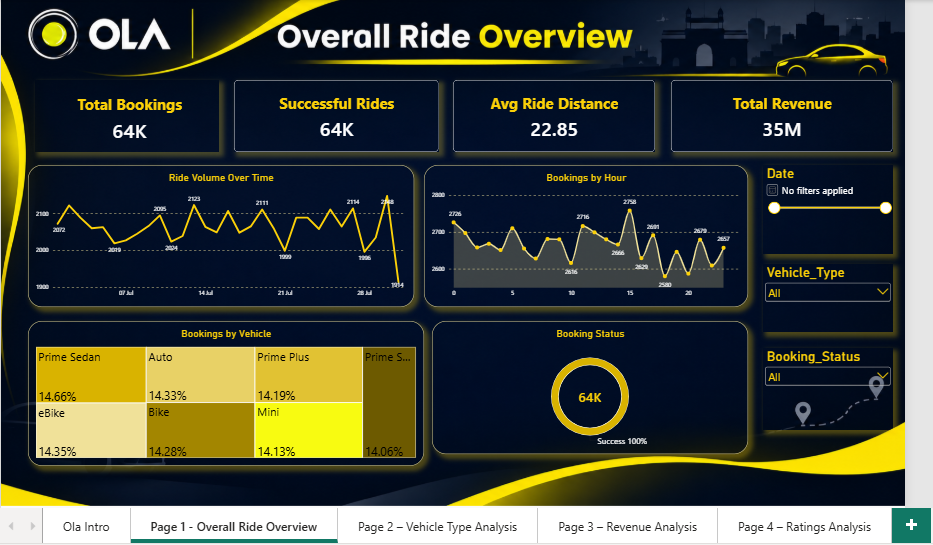

What the dashboard file says about the page in this screenshot:
{"tool":"powerbi","page":{"name":"Page 1 - Overall Ride Overview","canvas":[1920,1080],"ordinal":1},"visuals":[{"type":"cardVisual","fields":{"Data":["ola_cleaned.Total Bookings"]},"box":[72.3,170.1,391.2,153.1],"z":0},{"type":"cardVisual","fields":{"Data":["ola_cleaned.Avg Ride Distance"]},"box":[960.9,170.1,429.4,153.1],"z":1000},{"type":"cardVisual","fields":{"Data":["ola_cleaned.Successful Rides"]},"box":[495.4,170.1,435.8,153.1],"z":2000},{"type":"cardVisual","fields":{"Data":["ola_cleaned.Total Revenue"]},"box":[1424.4,170.1,472,153.1],"z":3000},{"type":"lineChart","title":"Ride Volume Over Time","fields":{"Category":["ola_cleaned.Date.Variation.Date Hierarchy.Year","ola_cleaned.Date.Variation.Date Hierarchy.Quarter","ola_cleaned.Date.Variation.Date Hierarchy.Month","ola_cleaned.Date.Variation.Date Hierarchy.Day"],"Y":["ola_cleaned.Total Bookings"]},"box":[57.4,350.8,820.6,301.9],"z":4000},{"type":"donutChart","title":"Booking Status","fields":{"Category":["ola_cleaned.Booking_Status"],"Y":["ola_cleaned.Total Bookings"]},"box":[916.3,682.4,671.8,282.8],"z":5000},{"type":"areaChart","title":"Bookings by Hour","fields":{"Category":["ola_cleaned.Hour"],"Y":["ola_cleaned.Total Bookings"]},"box":[899.3,350.8,688.8,301.9],"z":6000},{"type":"treemap","title":"Bookings by Vehicle","fields":{"Group":["ola_cleaned.Vehicle_Type"],"Values":["Divide(ola_cleaned.Total Bookings, ScopedEval(ola_cleaned.Total Bookings, []))"]},"box":[57.4,682.4,841.9,308.3],"z":7000},{"type":"slicer","fields":{"Values":["ola_cleaned.Date"]},"box":[1620,350.8,276.4,189.2],"z":8000},{"type":"slicer","fields":{"Values":["ola_cleaned.Vehicle_Type"]},"box":[1620,561.3,276.4,144.6],"z":9000},{"type":"slicer","fields":{"Values":["ola_cleaned.Booking_Status"]},"box":[1620,739.8,276.4,174.3],"z":10000}]}

Visuals, with their boxes on the page's 1920x1080 design canvas (x1, y1, x2, y2). These are canvas units, not pixel positions in the 933x545 screenshot, which may show the page scaled, cropped or inside an application window:
cardVisual - ola_cleaned.Total Bookings: [x1=72, y1=170, x2=464, y2=323]
cardVisual - ola_cleaned.Avg Ride Distance: [x1=961, y1=170, x2=1390, y2=323]
cardVisual - ola_cleaned.Successful Rides: [x1=495, y1=170, x2=931, y2=323]
cardVisual - ola_cleaned.Total Revenue: [x1=1424, y1=170, x2=1896, y2=323]
"Ride Volume Over Time" lineChart: [x1=57, y1=351, x2=878, y2=653]
"Booking Status" donutChart: [x1=916, y1=682, x2=1588, y2=965]
"Bookings by Hour" areaChart: [x1=899, y1=351, x2=1588, y2=653]
"Bookings by Vehicle" treemap: [x1=57, y1=682, x2=899, y2=991]
slicer - ola_cleaned.Date: [x1=1620, y1=351, x2=1896, y2=540]
slicer - ola_cleaned.Vehicle_Type: [x1=1620, y1=561, x2=1896, y2=706]
slicer - ola_cleaned.Booking_Status: [x1=1620, y1=740, x2=1896, y2=914]
